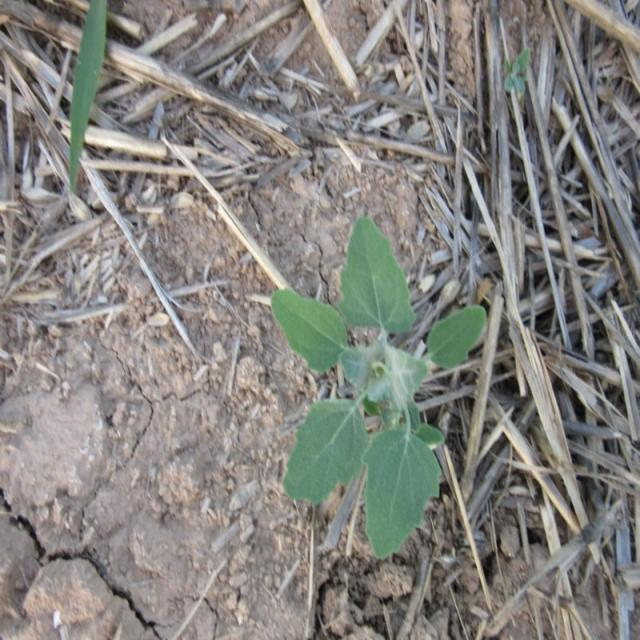ca: (271, 221, 484, 556)
